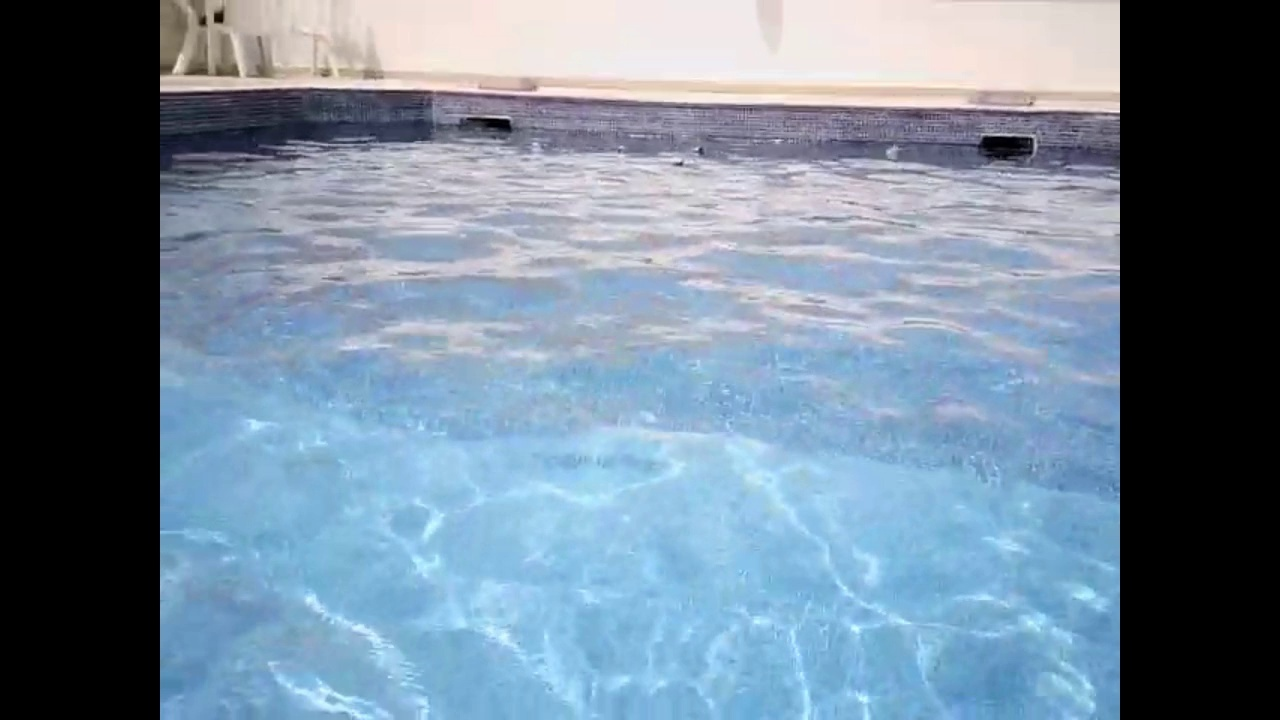debris: (883, 140, 905, 163), (610, 142, 631, 157), (669, 152, 686, 169), (689, 141, 707, 157)
